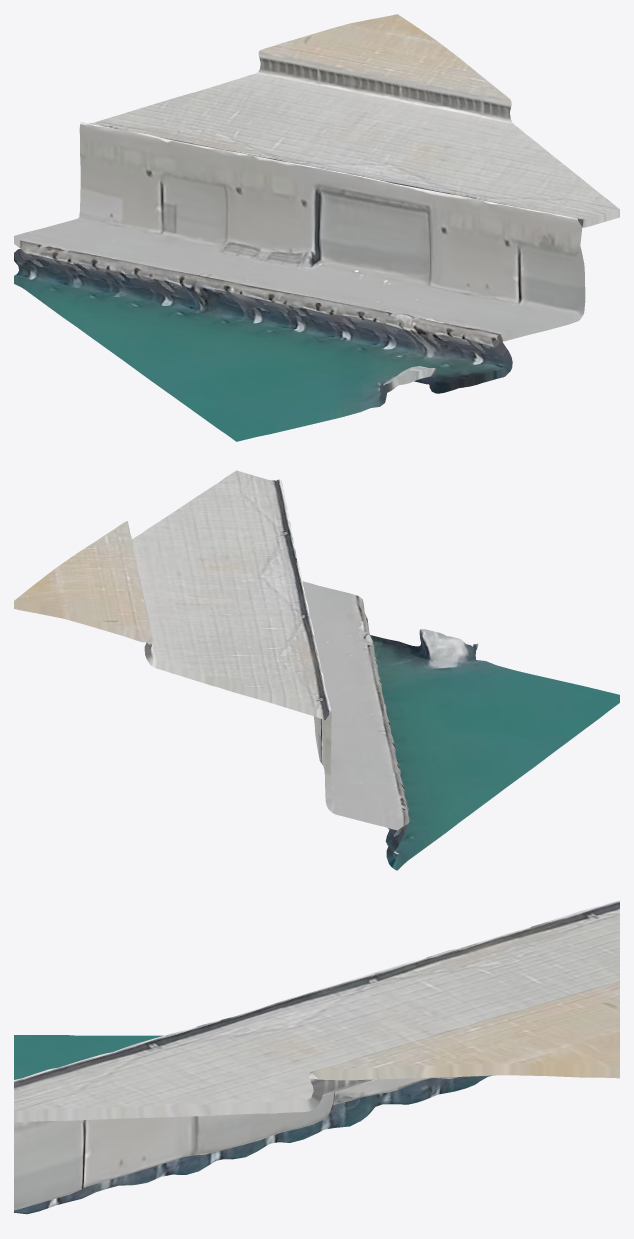
Rendered from z20-167774-405194-h0-yup-uvflip-v3-world.glb.
3 renders of one model, top to bottom at view 1: azimuth 30°, elevation 25°; view 2: azimuth 150°, elevation 25°; view 3: azimuth 270°, elevation 25°, orthographic. The views are drawn at different scales.
Size of the model in its own units: 30.16 by 13.4 by 30.32.
Materials: 1 (1 with a texture image).
